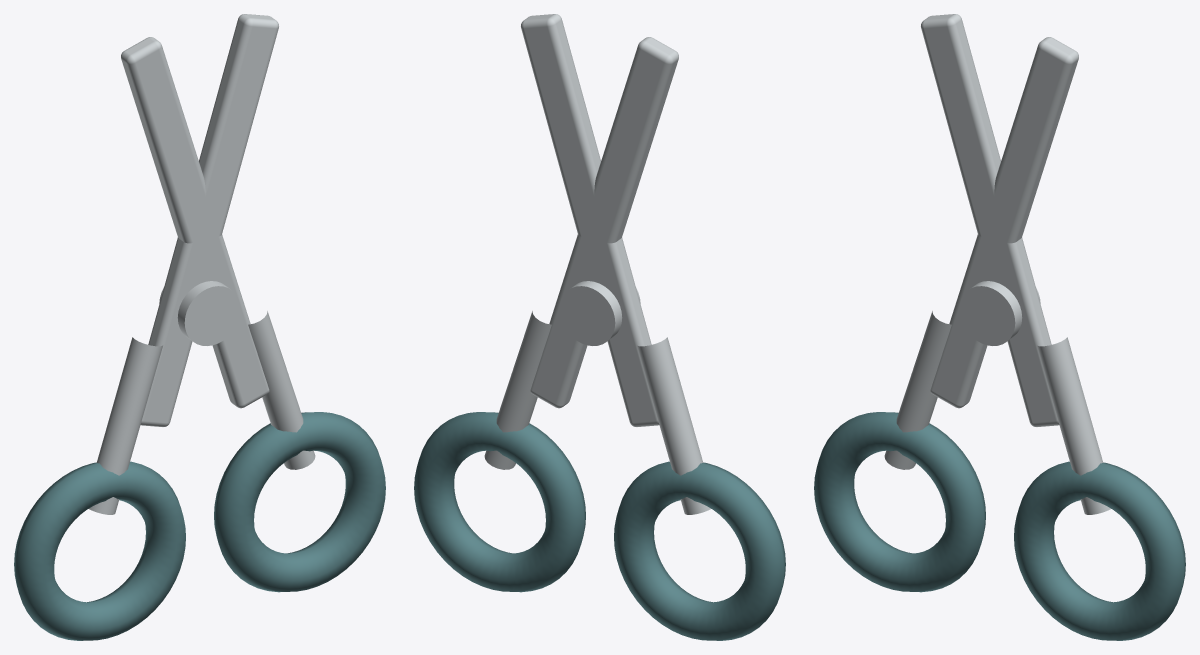
File: candlemaking-and-soap-workshop-wick-cutting-shear-9d7ebe5c__30654.glb
3 views of the same model, side by side, from view 1: azimuth 30°, elevation 25°; view 2: azimuth 150°, elevation 25°; view 3: azimuth 330°, elevation 25° (orthographic).
Visible parts, largest first — view 1: wick-cutting-shear; view 2: wick-cutting-shear; view 3: wick-cutting-shear.
Part boxes in pixels (left/top/right/bottom): wick-cutting-shear: left=14, top=14, right=385, bottom=640; wick-cutting-shear: left=414, top=14, right=785, bottom=640; wick-cutting-shear: left=814, top=14, right=1185, bottom=640.
Bounding box in the file's own units: 0.184 × 0.2804 × 0.022.
